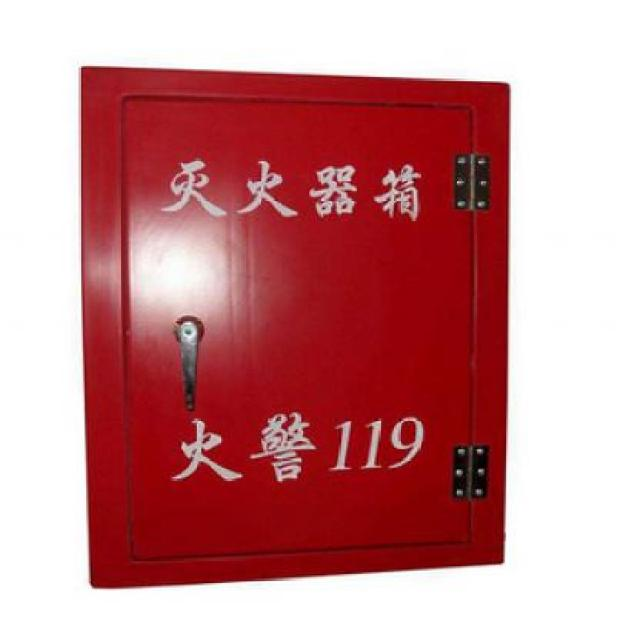firehydrant: (72, 61, 515, 597)
